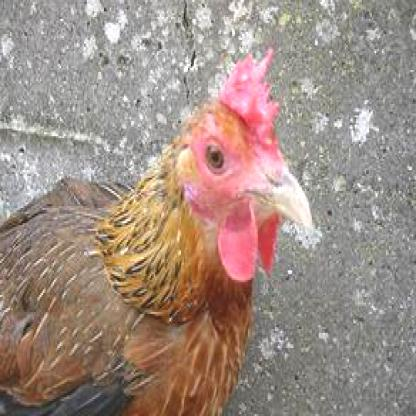chicken: (1, 47, 314, 414)
